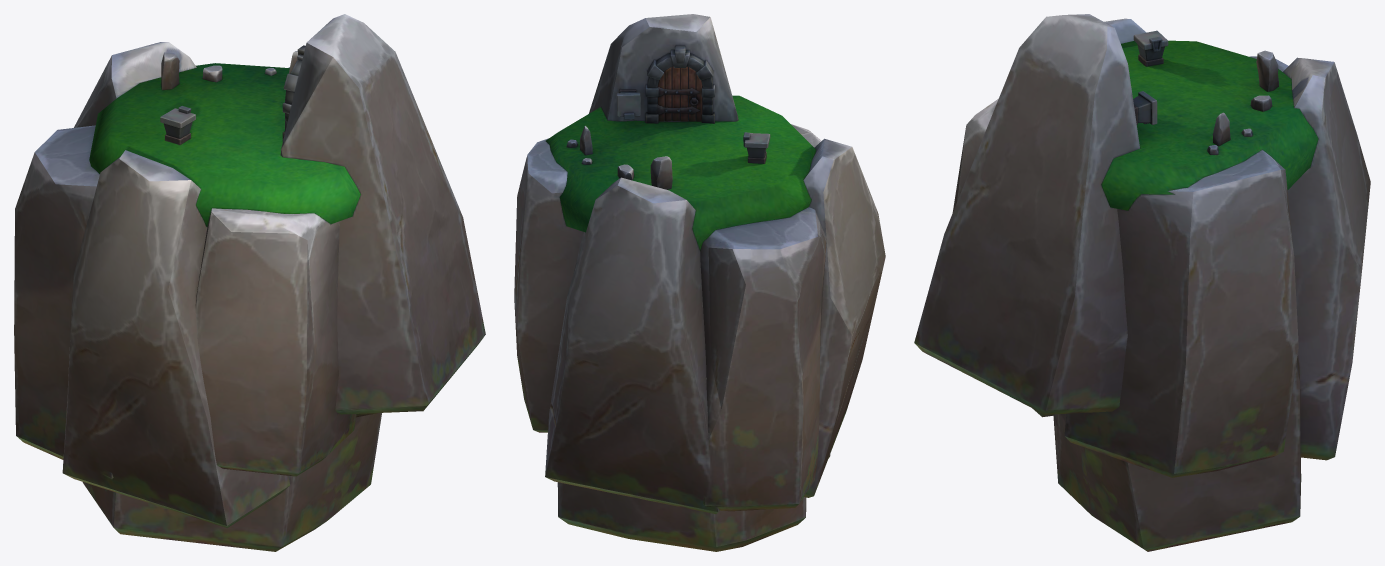
Rendered from circles-island-3.glb.
The picture shows the model from 3 angles, left to right: view 1: azimuth 30°, elevation 25°; view 2: azimuth 150°, elevation 25°; view 3: azimuth 270°, elevation 25°; orthographic projection. The views are drawn at different scales.
Parts seen in each view (by area): view 1: island_3; view 2: island_3; view 3: island_3.
Part boxes in pixels (left/top/right/bottom): island_3: left=14, top=14, right=485, bottom=551; island_3: left=514, top=14, right=885, bottom=551; island_3: left=914, top=14, right=1370, bottom=551.
Size of the model in its own units: 12.45 by 16.55 by 13.38.
1 material, 1 textured.
